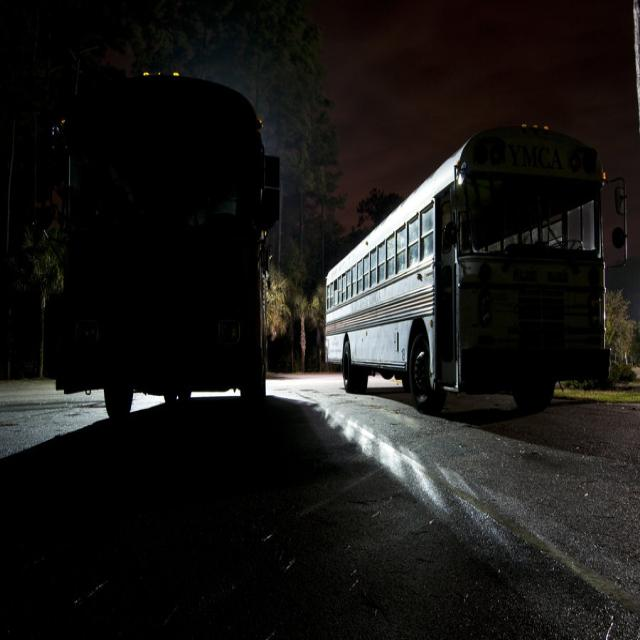Bus: (322, 109, 629, 432), (42, 58, 285, 423)
